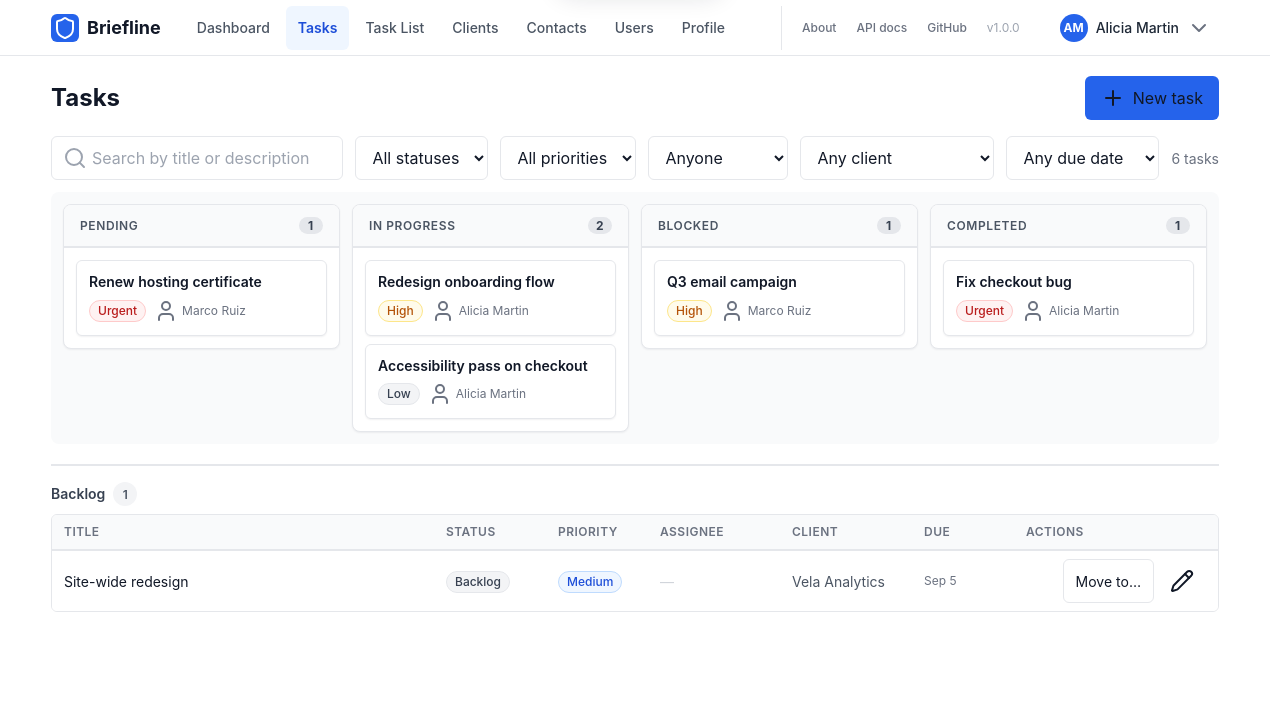
Test: Filters (TASK-FE-003) › debounces the search term and supports Clear filters
This screenshot has width=1280, height=720.
Check: the heading "Tasks" is shown, box [51, 83, 120, 113]
Check: the heading "Redesign onboarding flow" is shown, box [378, 273, 555, 290]
In the search field named "Search tasks": point(197, 158) [51, 136, 343, 180], type "certificate"
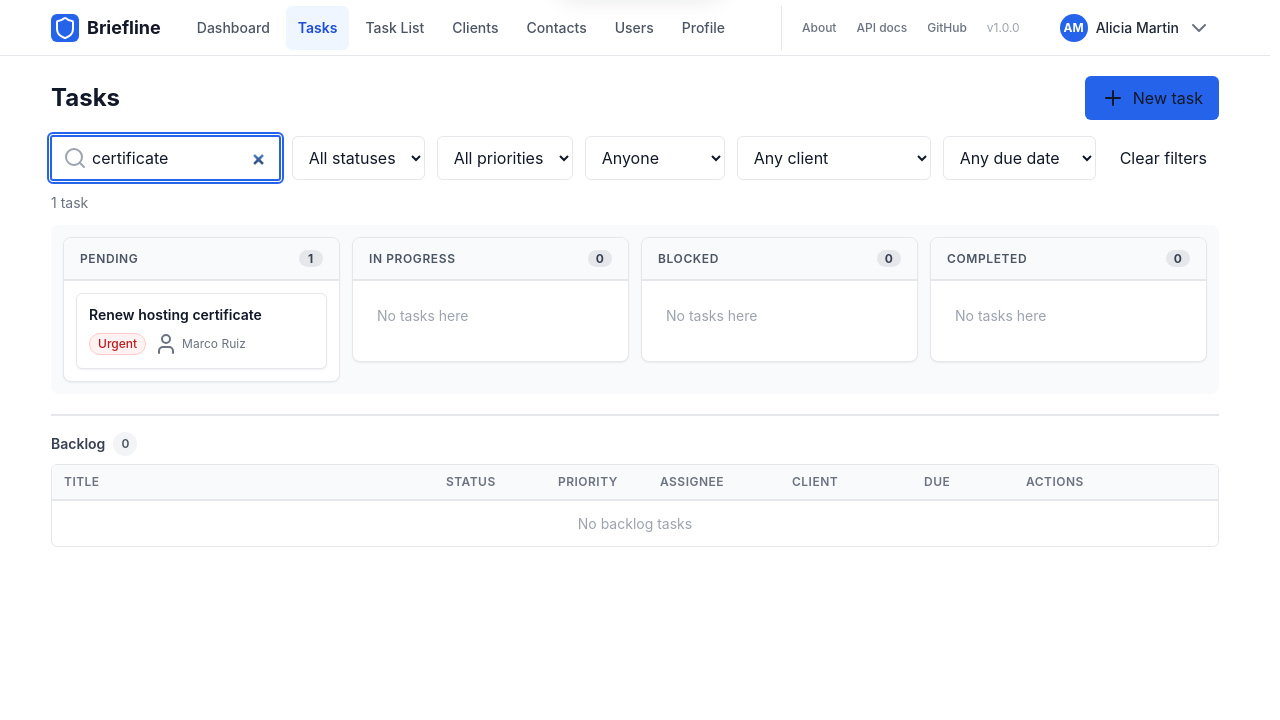
Check: the button "Renew hosting certificate" is shown, box [76, 293, 327, 368]
Check: the text "1 task" is shown, box [51, 192, 88, 213]
Click the button "Clear filters": point(1163, 158) [1108, 142, 1219, 174]
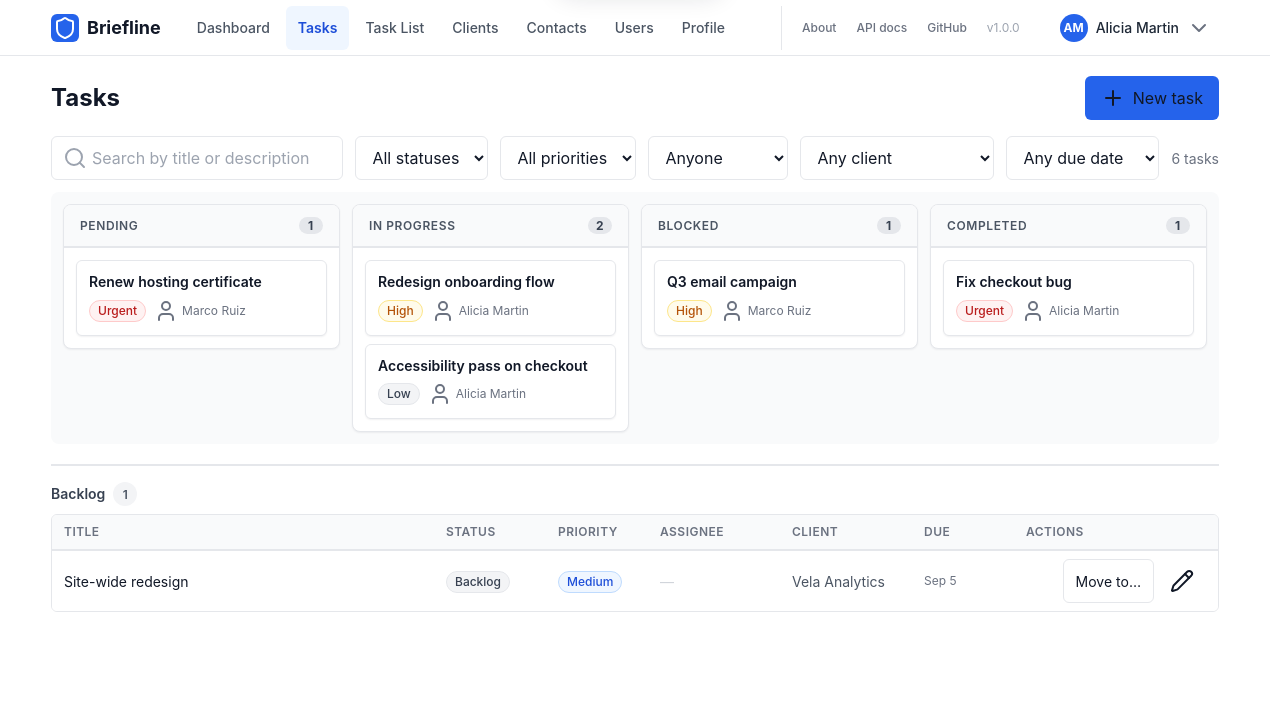
Check: the text "6 tasks" is shown, box [1171, 148, 1219, 168]
Check: the button "Clear filters" is gone
